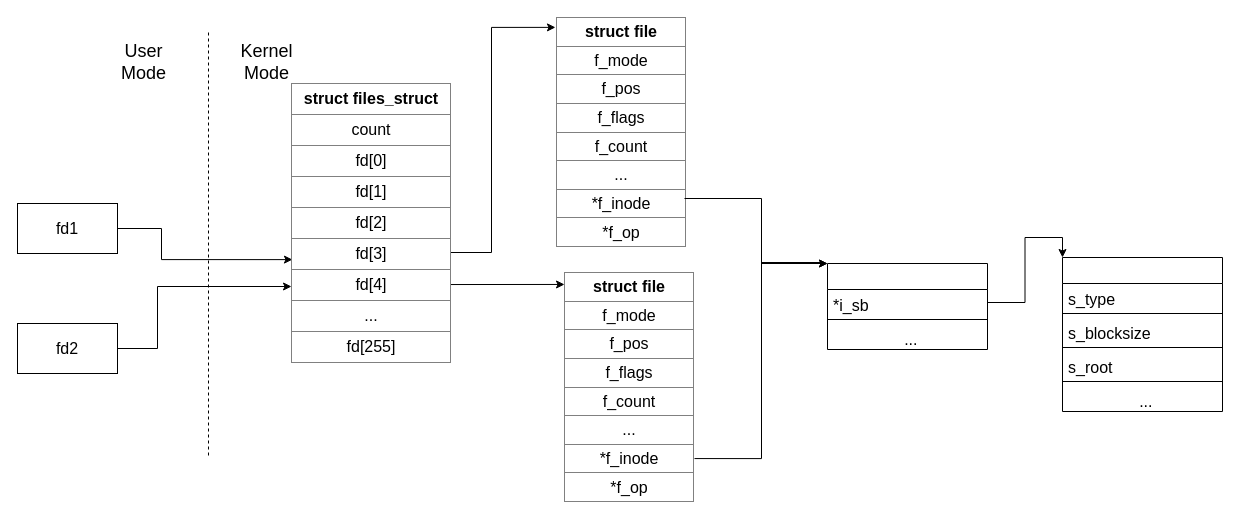
Image size: 1240x519. Some labels were removed from this diagram. The box of each missing label's shape, as (x1, y1, x2, y2) in pixels:
struct inode: (826, 262, 988, 350)
struct super_block: (1062, 256, 1222, 412)
